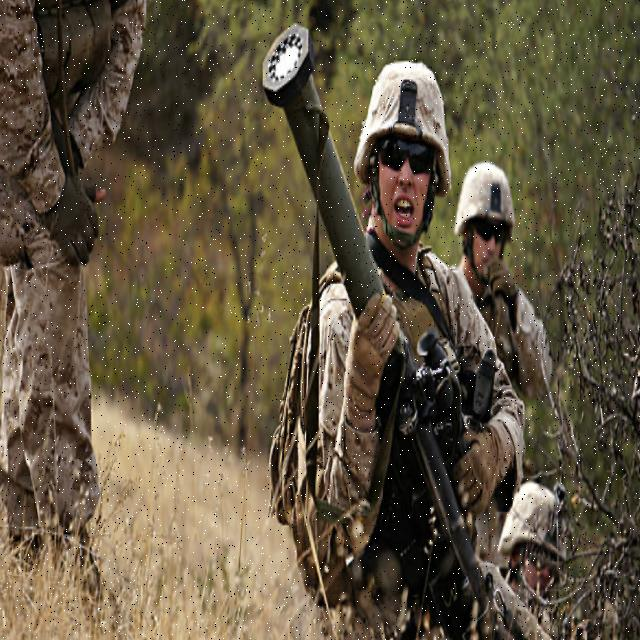bazooka: (258, 12, 514, 638)
